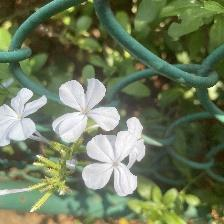chitrak: (56, 76, 118, 141), (85, 134, 143, 199), (1, 94, 52, 144)
